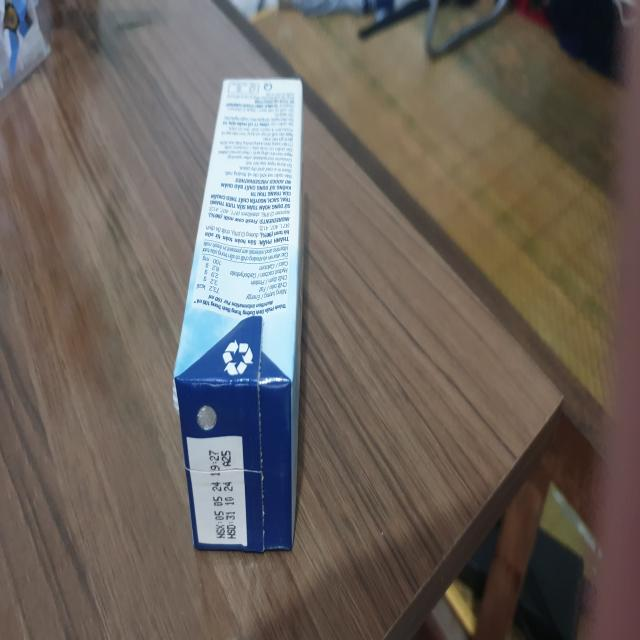TH: (170, 80, 308, 553)
